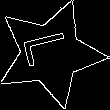L_E: (22, 32, 79, 75)
